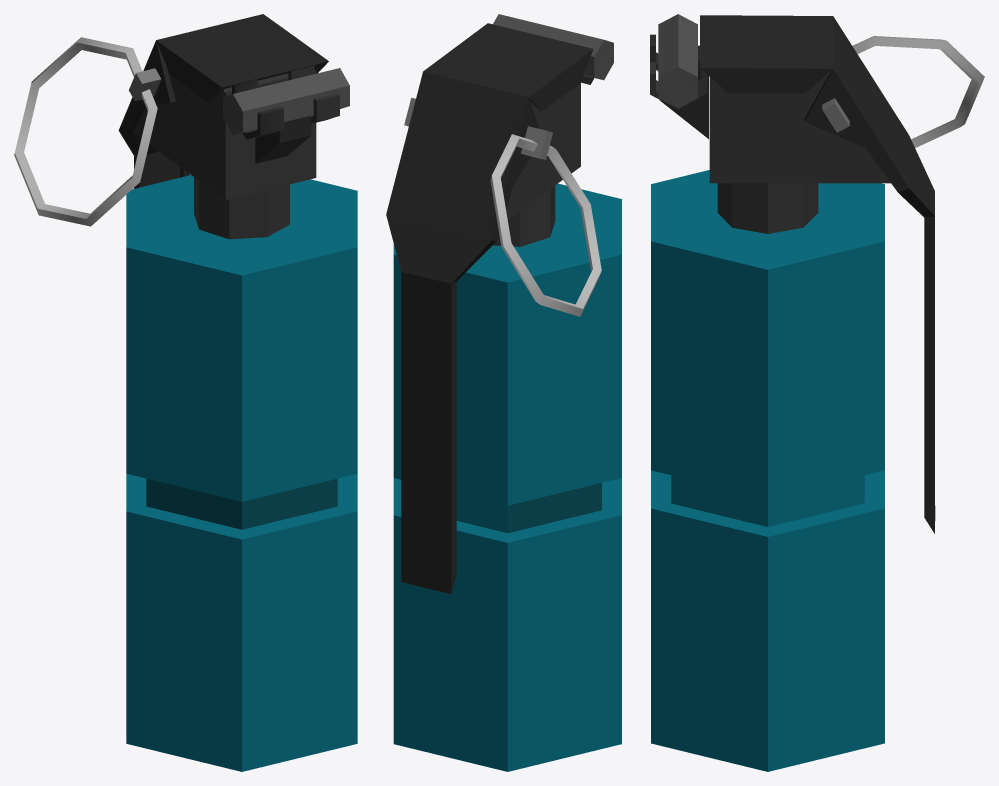
Rendered from Stun3.FBX.
The picture shows the model from 3 angles, left to right: view 1: azimuth 30°, elevation 25°; view 2: azimuth 150°, elevation 25°; view 3: azimuth 270°, elevation 25°; orthographic projection. The views are drawn at different scales.
Parts seen in each view (by area): view 1: Cylinder024, Sphere015, Object037, Object038; view 2: Cylinder024, Sphere015, Object037, Object038; view 3: Cylinder024, Sphere015, Object037.
Boxes of the visible parts, left/top/right/bottom form: Cylinder024: left=126, top=175, right=357, bottom=771; Sphere015: left=118, top=14, right=349, bottom=239; Object037: left=14, top=37, right=157, bottom=226; Object038: left=129, top=68, right=161, bottom=100; Cylinder024: left=393, top=183, right=621, bottom=771; Sphere015: left=386, top=14, right=613, bottom=593; Object037: left=490, top=134, right=601, bottom=316; Object038: left=404, top=97, right=552, bottom=159; Cylinder024: left=651, top=170, right=884, bottom=771; Sphere015: left=650, top=14, right=935, bottom=533; Object037: left=852, top=36, right=984, bottom=147.
Bounding box in the file's own units: 0.1328 × 0.3304 × 0.1487.
